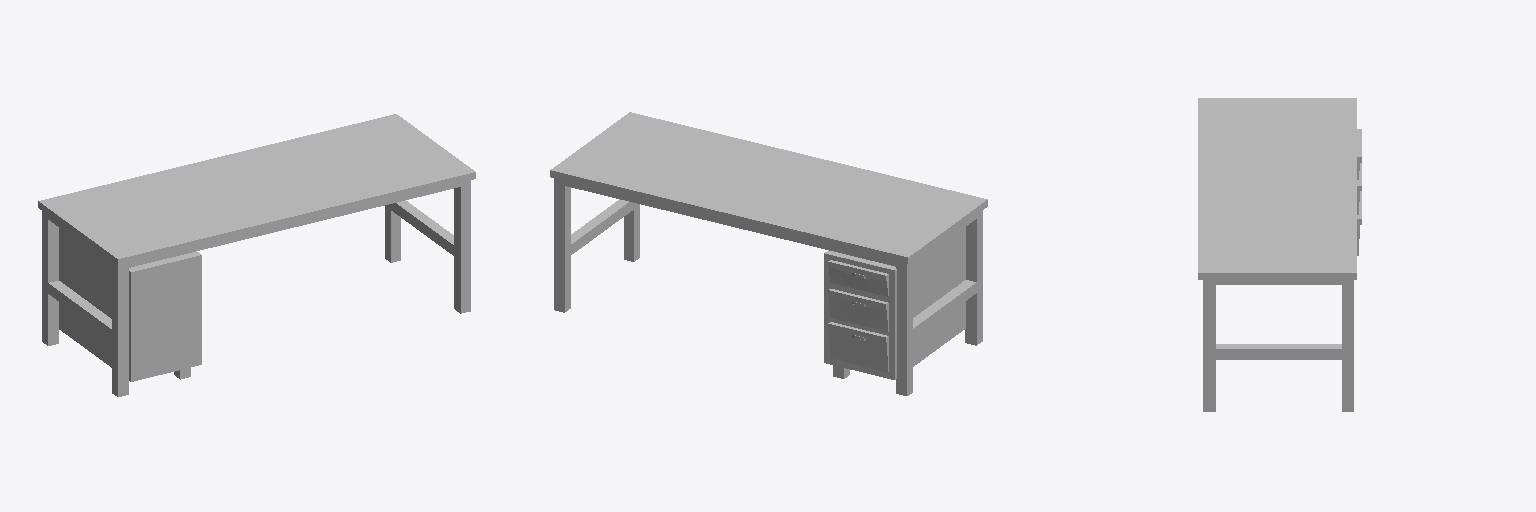
Rendered from SM_EscritorioB.obj.
The picture shows the model from 3 angles: view 1: azimuth 30°, elevation 25°; view 2: azimuth 150°, elevation 25°; view 3: azimuth 270°, elevation 25°; orthographic projection.
Visible parts, largest first — view 1: EscritorioB; view 2: EscritorioB; view 3: EscritorioB.
Part boxes in pixels (x1,y1,x2,y2): EscritorioB: (38, 114, 475, 396); EscritorioB: (550, 112, 987, 395); EscritorioB: (1198, 98, 1361, 411).
Size of the model in its own units: 14.34 by 5.38 by 5.68.